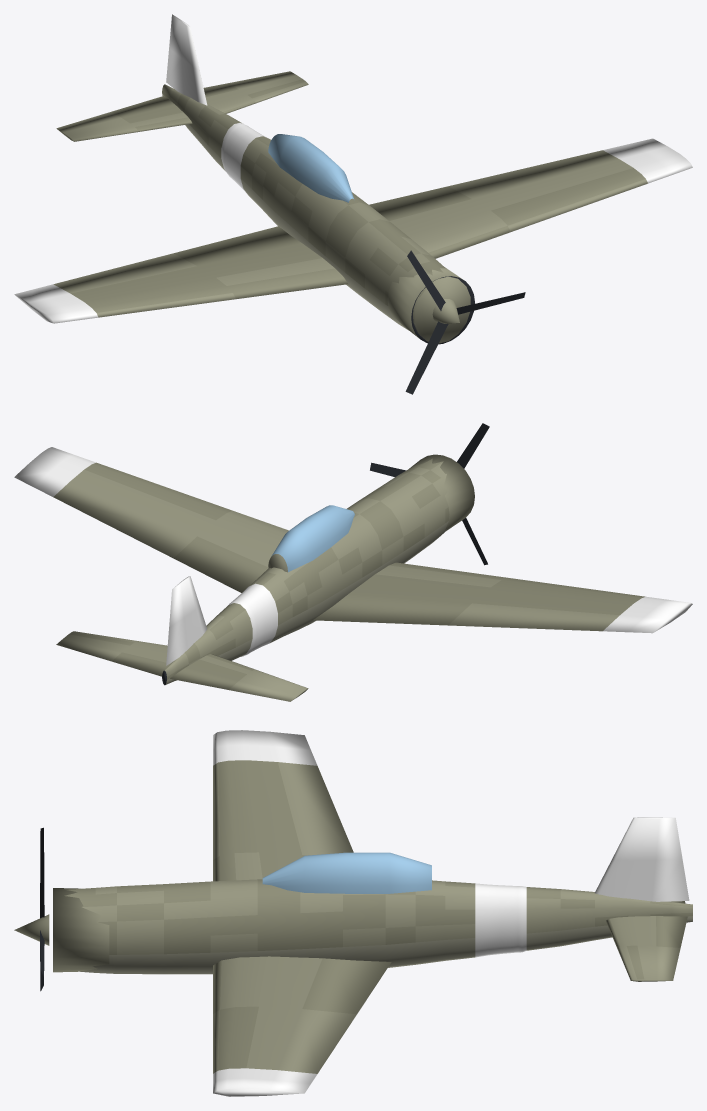
3 renders of one model, top to bottom at view 1: azimuth 30°, elevation 25°; view 2: azimuth 150°, elevation 25°; view 3: azimuth 270°, elevation 25°, orthographic. The views are drawn at different scales.
Visible parts, largest first — view 1: body, prop; view 2: body, prop; view 3: body, prop.
Boxes of the visible parts, x1=… form: body: x1=14, y1=14, x2=692, y2=344; prop: x1=405, y1=250, x2=525, y2=394; body: x1=14, y1=447, x2=692, y2=701; prop: x1=370, y1=423, x2=489, y2=565; body: x1=53, y1=730, x2=692, y2=1096; prop: x1=14, y1=827, x2=49, y2=991.
Size of the model in its own units: 12 by 3.04 by 9.61.
